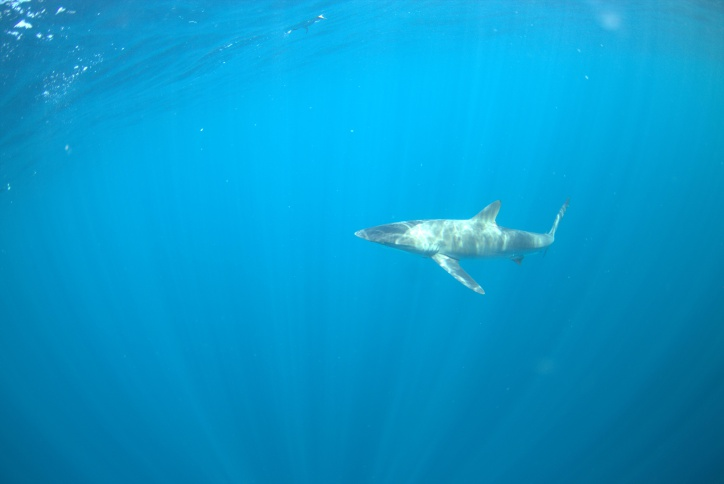Sedoso: (341, 197, 577, 303)
